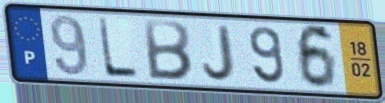6: (293, 22, 340, 94)
9: (48, 13, 91, 78), (247, 25, 287, 86)
B: (142, 17, 194, 83)
J: (201, 23, 237, 83)
L: (95, 15, 141, 81)
